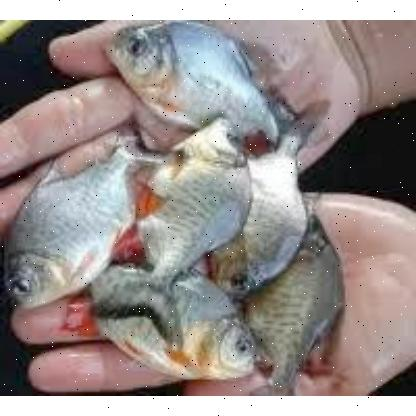ikan-pacu: (0, 140, 150, 310), (108, 18, 306, 134), (130, 117, 258, 279), (93, 266, 249, 380)
